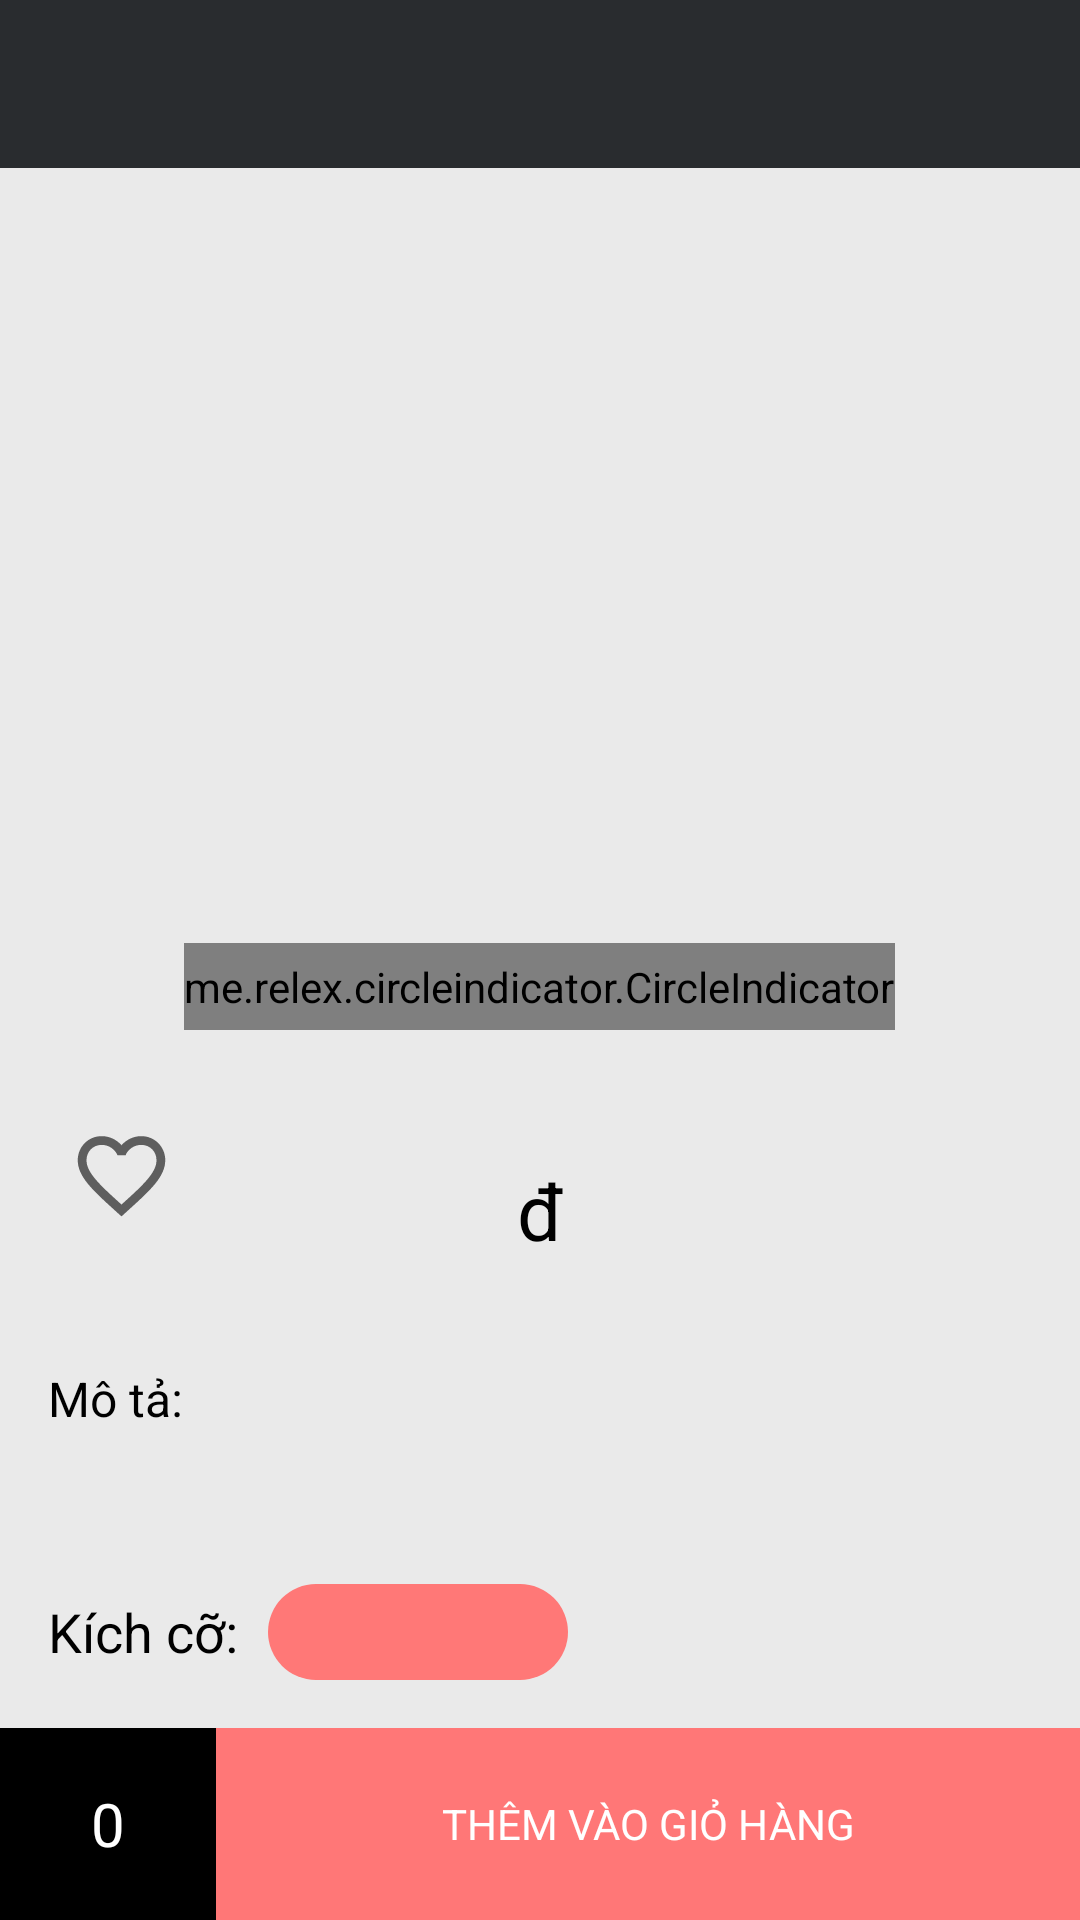

Named icons in this screenshot (1080 x 1920) and their bounding boxes, (x1, y1, x2, y2):
unlike: (77, 1136, 166, 1216)
